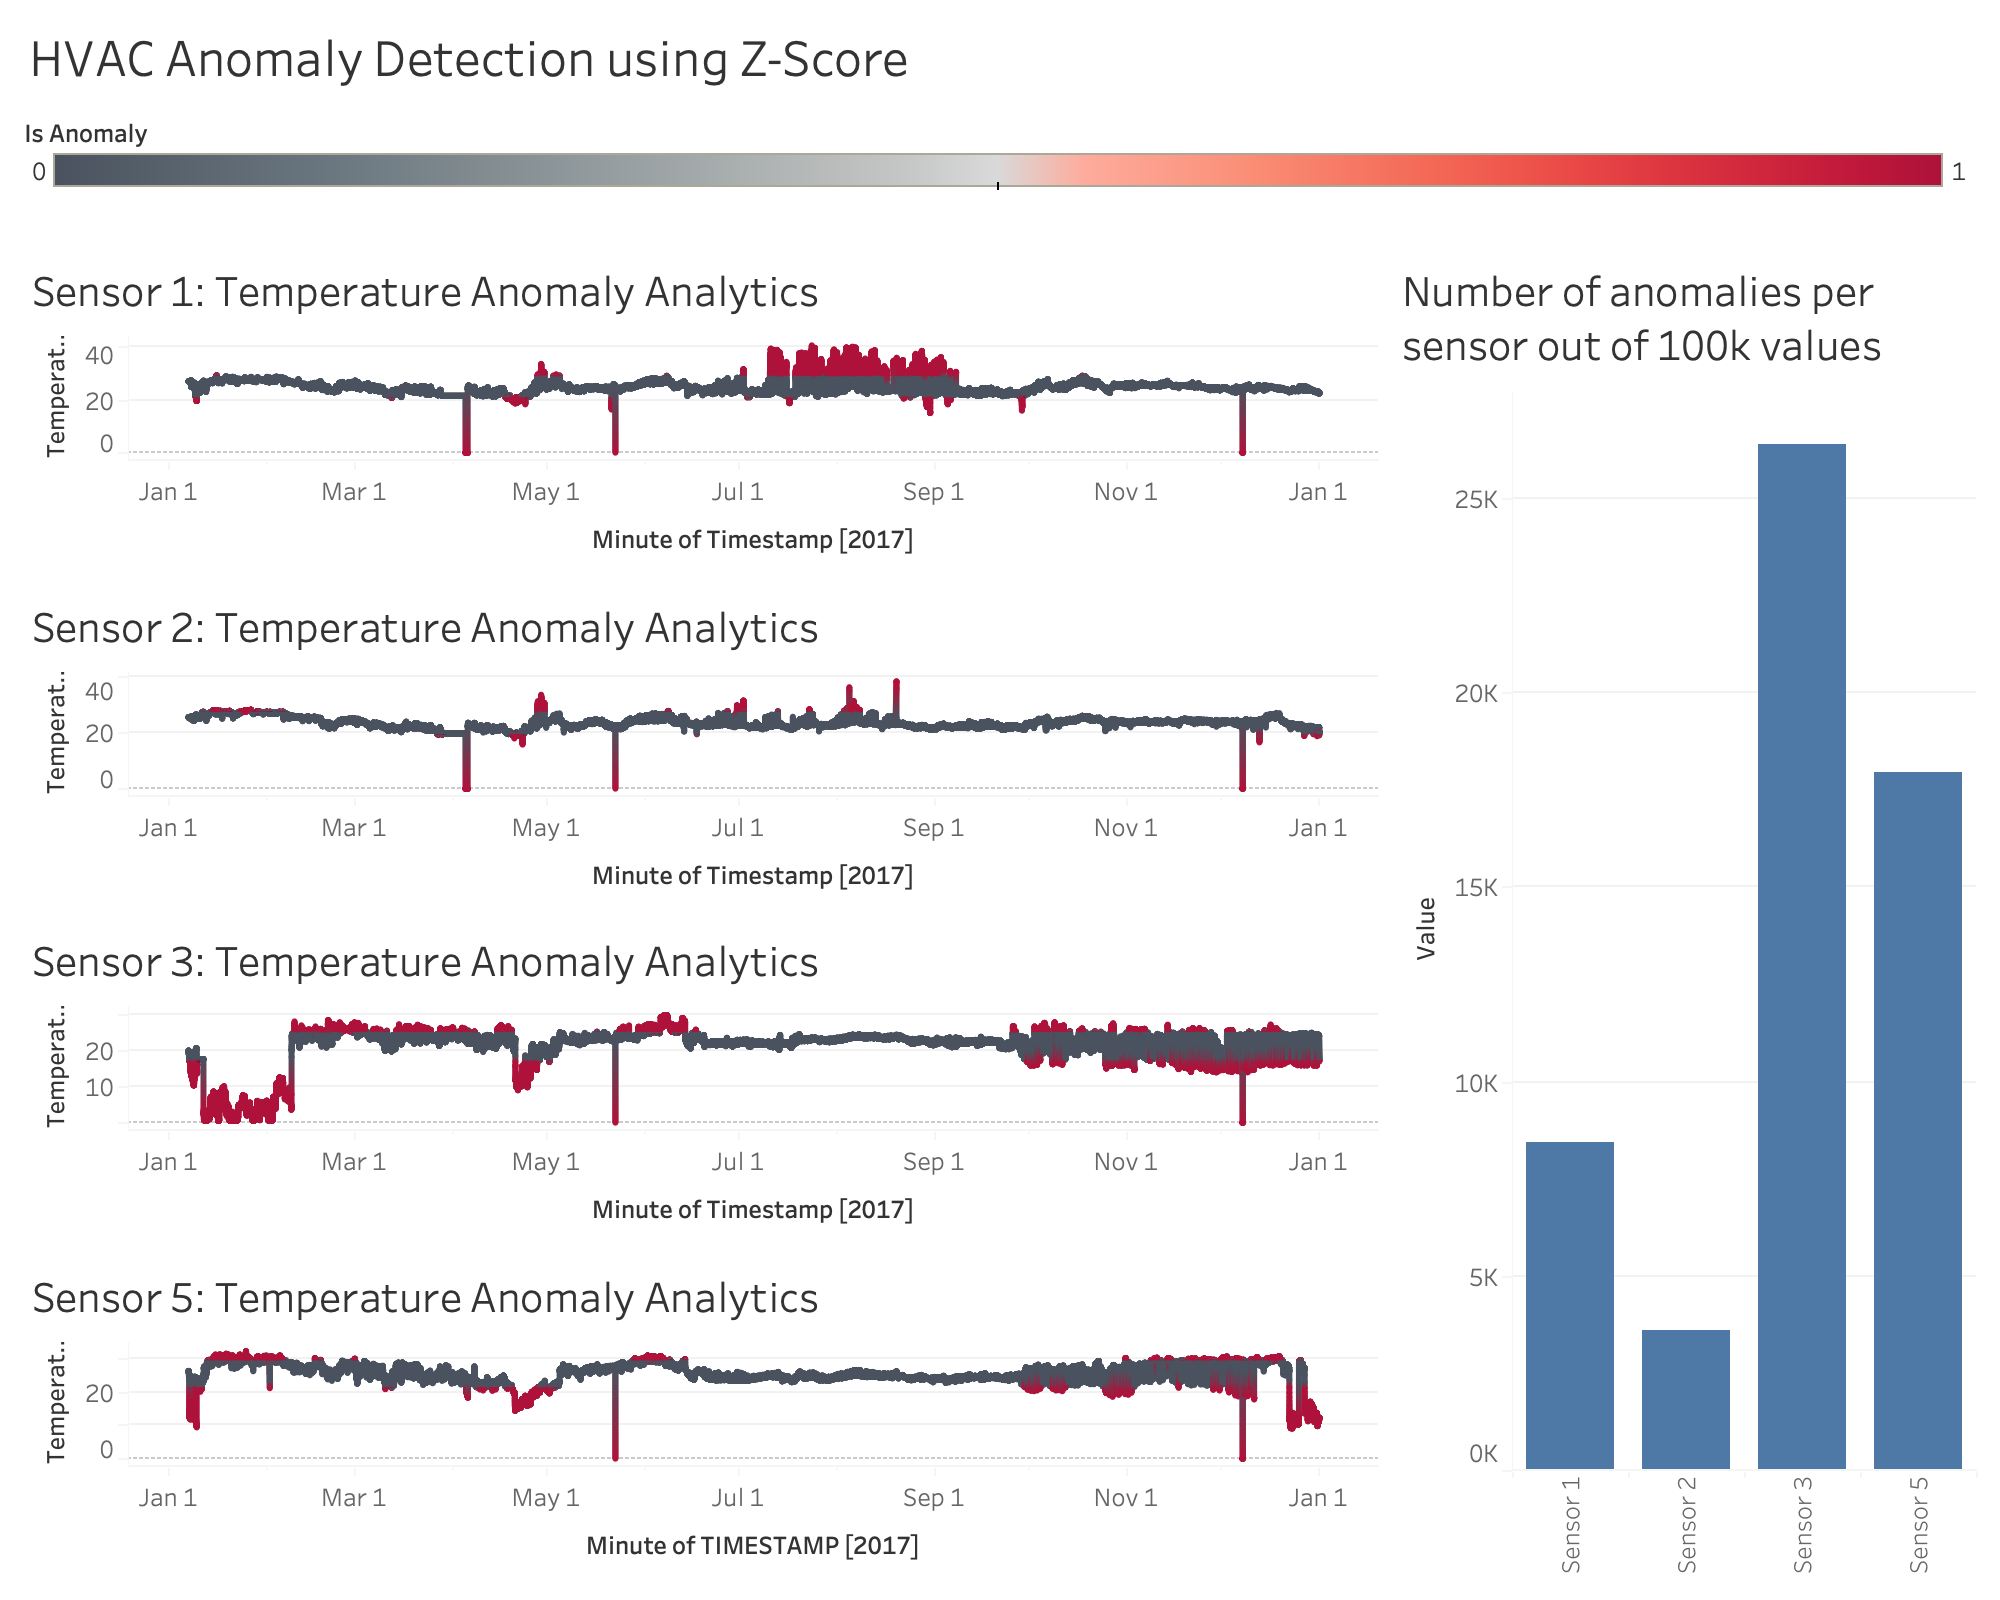

Layout of this report page (visuals, bound fields, positions):
{"tool":"tableau","page":{"name":"Dashboard 1","canvas":[1000,800],"ordinal":0},"visuals":[{"type":"title","box":[8,8,984,42]},{"type":"legend","title":"Sheet 3","param":"[federated.111nbhq137tc9f12nvud20dj28nz].[sum:isAnomaly:qk]","box":[8,50,984,71]},{"type":"worksheet","title":"Sheet 1","mark":"Line","rows":["Temperature"],"cols":["Calculation_813181236069490688"],"box":[8,121,685,167.7]},{"type":"worksheet","title":"Sheet 5","mark":"Automatic","box":[693,121,299,671]},{"type":"worksheet","title":"Sheet 2","mark":"Automatic","rows":["Temperature"],"cols":["Calculation_813181236085526534"],"box":[8,288.7,685,167.8]},{"type":"worksheet","title":"Sheet 3","mark":"Automatic","rows":["Temperature"],"cols":["Calculation_813181236087148554"],"box":[8,456.5,685,167.8]},{"type":"worksheet","title":"Sheet 4","mark":"Automatic","rows":["Temperature"],"cols":["Calculation_813181236087844875"],"box":[8,624.2,685,167.8]}]}

Visuals, with their boxes in screenshot pixels (x1, y1, x2, y2), scaled from the page's 1000x800 canvas onto the 2000x1600 screenshot:
title: (16,16,1984,100)
"Sheet 3" legend: (16,100,1984,242)
"Sheet 1" worksheet (Line marks): (16,242,1386,577)
"Sheet 5" worksheet: (1386,242,1984,1584)
"Sheet 2" worksheet: (16,577,1386,913)
"Sheet 3" worksheet: (16,913,1386,1249)
"Sheet 4" worksheet: (16,1248,1386,1584)
